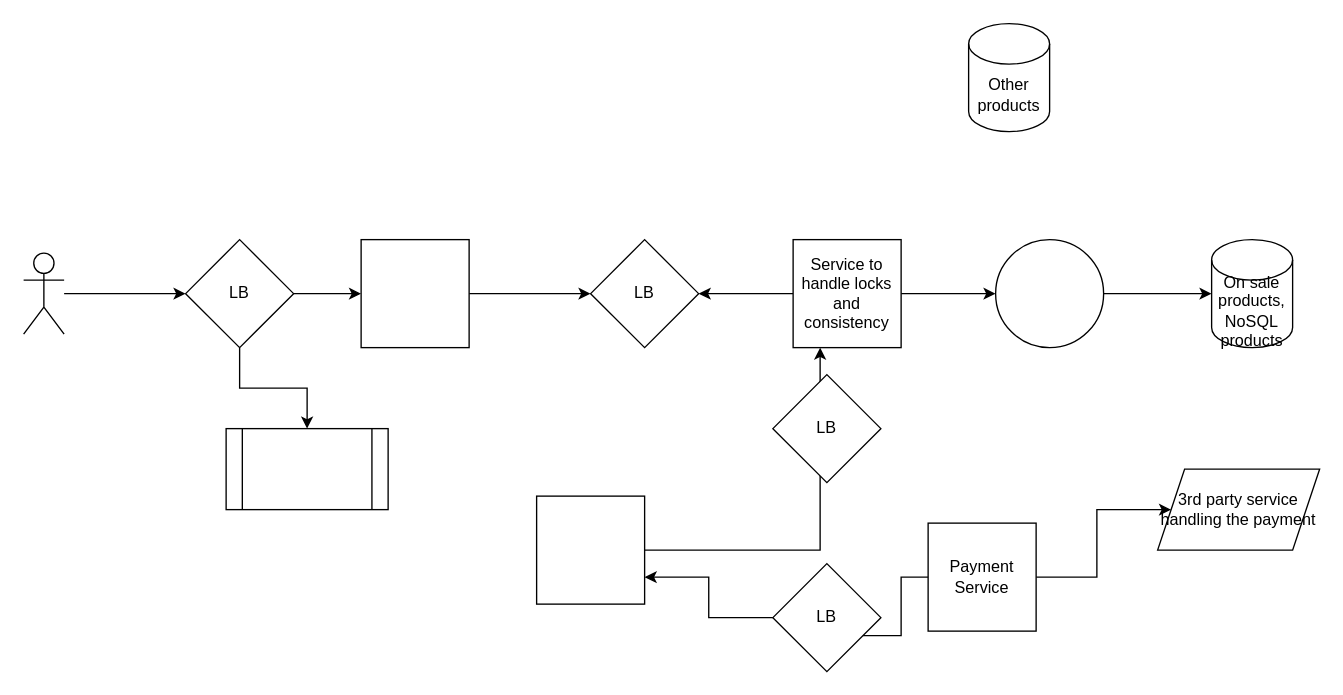
Image size: 1343x695. Some labels were removed from this diagram. Each missing label, with the centre of its shape:
"Actor" belongs at pixel 43 293.
"Cache" belongs at pixel 1049 293.
"Order / Cart Service" belongs at pixel 590 549.
"Rate limiting and IP blacklisting" belongs at pixel 306 468.
"Web Server / API module" belongs at pixel 414 293.
